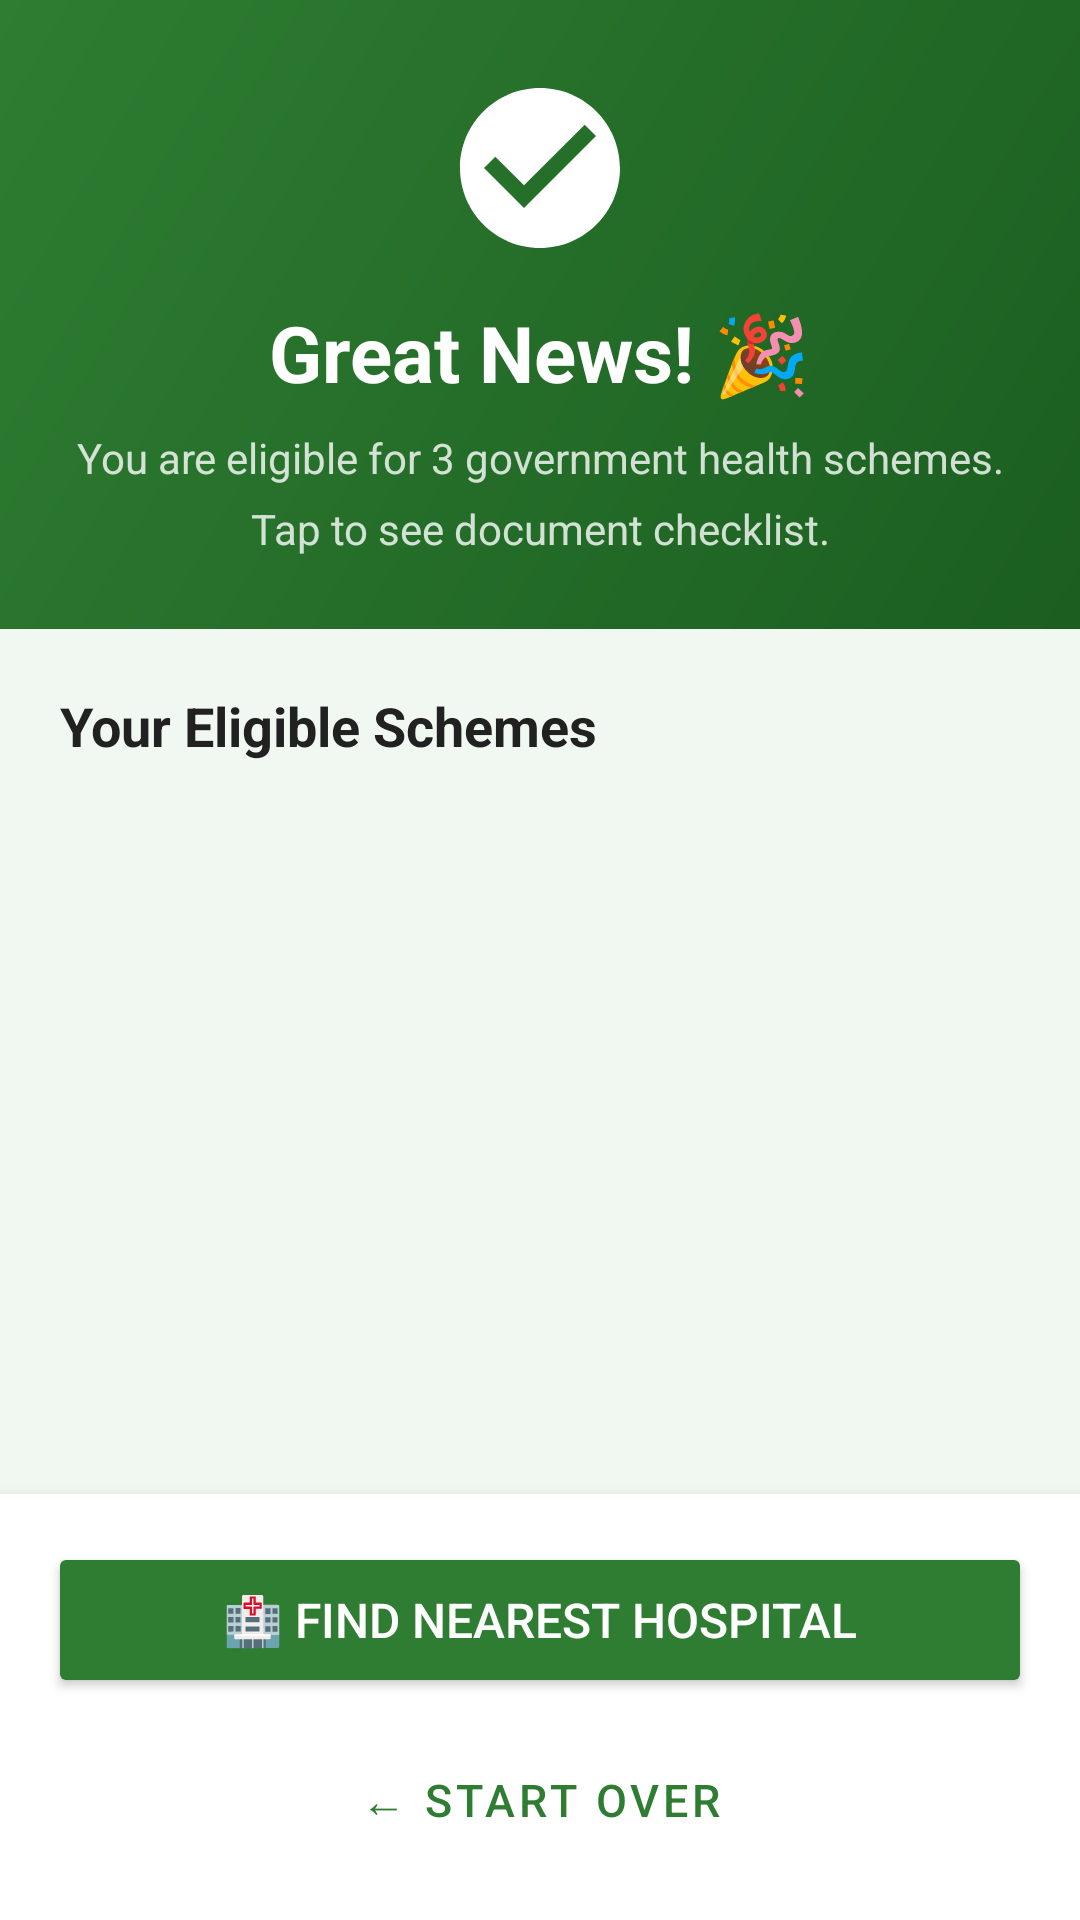

Icons on this 1080 x 1920 Android screen, each with the point to tap as (x,y):
check circle: (540,168)
